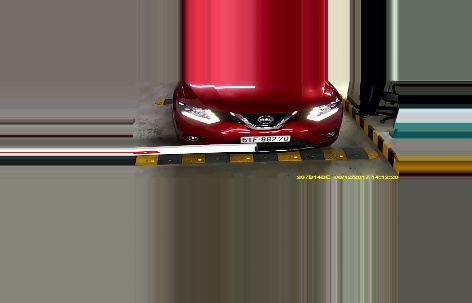plate: (239, 133, 291, 145)
